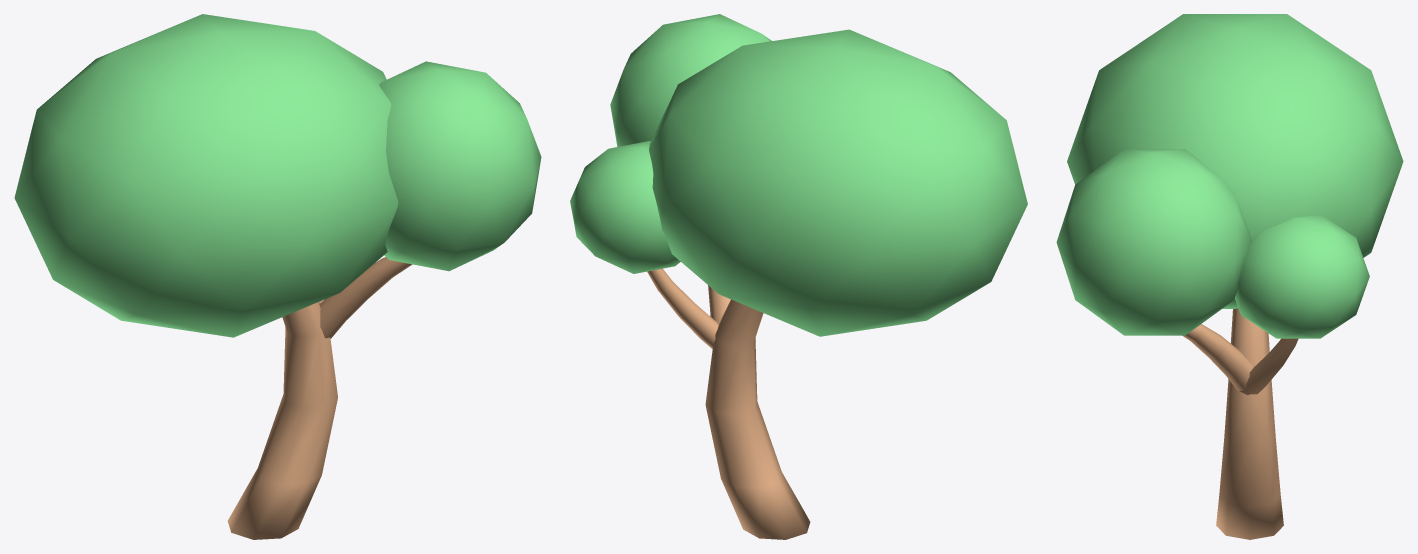
File: Pohon_5.fbx
3 renders of one model, left to right at view 1: azimuth 30°, elevation 25°; view 2: azimuth 150°, elevation 25°; view 3: azimuth 270°, elevation 25°, orthographic. The views are drawn at different scales.
Visible parts, largest first — view 1: Tree 1.001; view 2: Tree 1.001; view 3: Tree 1.001.
Boxes of the visible parts, left/top/right/bottom form: Tree 1.001: left=14, top=14, right=541, bottom=539; Tree 1.001: left=570, top=14, right=1027, bottom=539; Tree 1.001: left=1056, top=14, right=1403, bottom=539.
Size of the model in its own units: 1009 by 1122 by 747.
